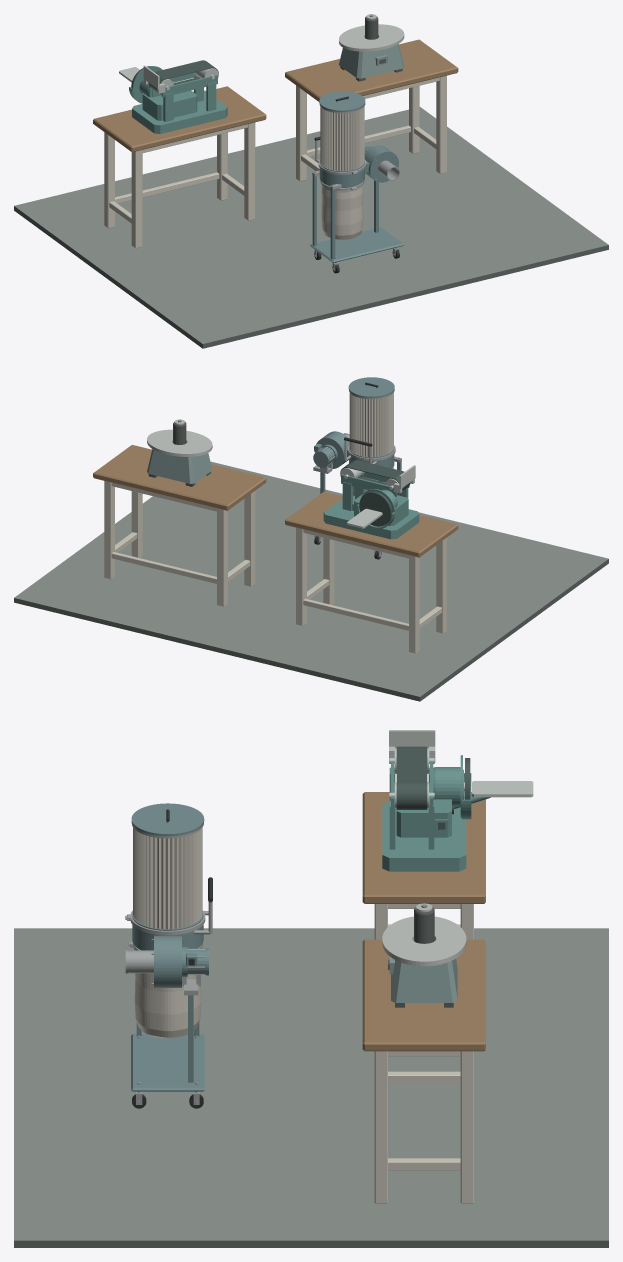
3 renders of one model, top to bottom at view 1: azimuth 30°, elevation 25°; view 2: azimuth 150°, elevation 25°; view 3: azimuth 270°, elevation 25°, orthographic. The views are drawn at different scales.
Parts seen in each view (by area): view 1: SCENE_ONLY__DisplayFloor, righttable__Complete work surface, lefttable__Complete work surface, collector__Hollow pleated upper filter, collector__Independent open top opaque collection bag, collector__Chamfered mobile steel base, belt__WholeCommonBenchBase, drum__WholeTaperSidedMachineCase, drum__WholeOvalThroughBoredWorktable, lefttable__Worktable leg, lefttable__Worktable leg.002, righttable__Worktable leg.002 (+12 smaller); view 2: SCENE_ONLY__DisplayFloor, righttable__Complete work surface, lefttable__Complete work surface, collector__Hollow pleated upper filter, drum__WholeTaperSidedMachineCase, belt__WholeCommonBenchBase, drum__WholeOvalThroughBoredWorktable, lefttable__Worktable leg.001, righttable__Worktable leg.001, righttable__Worktable leg, lefttable__Worktable leg.003, righttable__Worktable leg.003 (+10 smaller); view 3: SCENE_ONLY__DisplayFloor, righttable__Complete work surface, lefttable__Complete work surface, collector__Hollow pleated upper filter, collector__Chamfered mobile steel base, belt__WholeCommonBenchBase, collector__Independent open top opaque collection bag, drum__WholeOvalThroughBoredWorktable, drum__WholeTaperSidedMachineCase, righttable__Worktable leg.002, righttable__Worktable leg.003, belt__WholeLongClosedBelt (+10 smaller).
Boxes of the visible parts, x1,y1,x2,y2 form: SCENE_ONLY__DisplayFloor: (14, 107, 608, 348); righttable__Complete work surface: (285, 39, 458, 101); lefttable__Complete work surface: (93, 86, 266, 152); collector__Hollow pleated upper filter: (320, 106, 364, 170); collector__Independent open top opaque collection bag: (321, 185, 363, 240); collector__Chamfered mobile steel base: (310, 227, 403, 262); belt__WholeCommonBenchBase: (132, 90, 227, 133); drum__WholeTaperSidedMachineCase: (339, 38, 404, 78); drum__WholeOvalThroughBoredWorktable: (339, 24, 404, 51); lefttable__Worktable leg: (131, 150, 142, 248); lefttable__Worktable leg.002: (244, 122, 255, 220); righttable__Worktable leg.002: (436, 75, 446, 173); SCENE_ONLY__DisplayFloor: (14, 461, 608, 701); righttable__Complete work surface: (93, 445, 266, 510); lefttable__Complete work surface: (285, 491, 458, 557); collector__Hollow pleated upper filter: (349, 392, 393, 456); drum__WholeTaperSidedMachineCase: (147, 443, 212, 483); belt__WholeCommonBenchBase: (323, 495, 419, 539); drum__WholeOvalThroughBoredWorktable: (147, 429, 212, 456); lefttable__Worktable leg.001: (409, 555, 419, 653); righttable__Worktable leg.001: (217, 508, 227, 606); righttable__Worktable leg: (244, 491, 255, 586); lefttable__Worktable leg.003: (296, 527, 306, 626); righttable__Worktable leg.003: (104, 481, 114, 579); SCENE_ONLY__DisplayFloor: (14, 928, 608, 1247); righttable__Complete work surface: (362, 939, 485, 1051); lefttable__Complete work surface: (362, 792, 485, 903); collector__Hollow pleated upper filter: (133, 827, 202, 929); collector__Chamfered mobile steel base: (131, 1034, 204, 1091); belt__WholeCommonBenchBase: (382, 801, 466, 871); collector__Independent open top opaque collection bag: (134, 973, 201, 1038); drum__WholeOvalThroughBoredWorktable: (382, 916, 466, 966); drum__WholeTaperSidedMachineCase: (391, 941, 457, 1002); righttable__Worktable leg.002: (374, 1051, 387, 1203); righttable__Worktable leg.003: (460, 1051, 473, 1203); belt__WholeLongClosedBelt: (396, 746, 427, 809).
Bounding box in the file's own units: 3.6 × 1.43 × 2.9.
